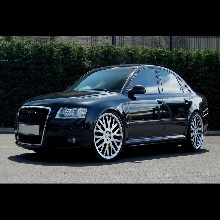no damage: (13, 64, 210, 161)
